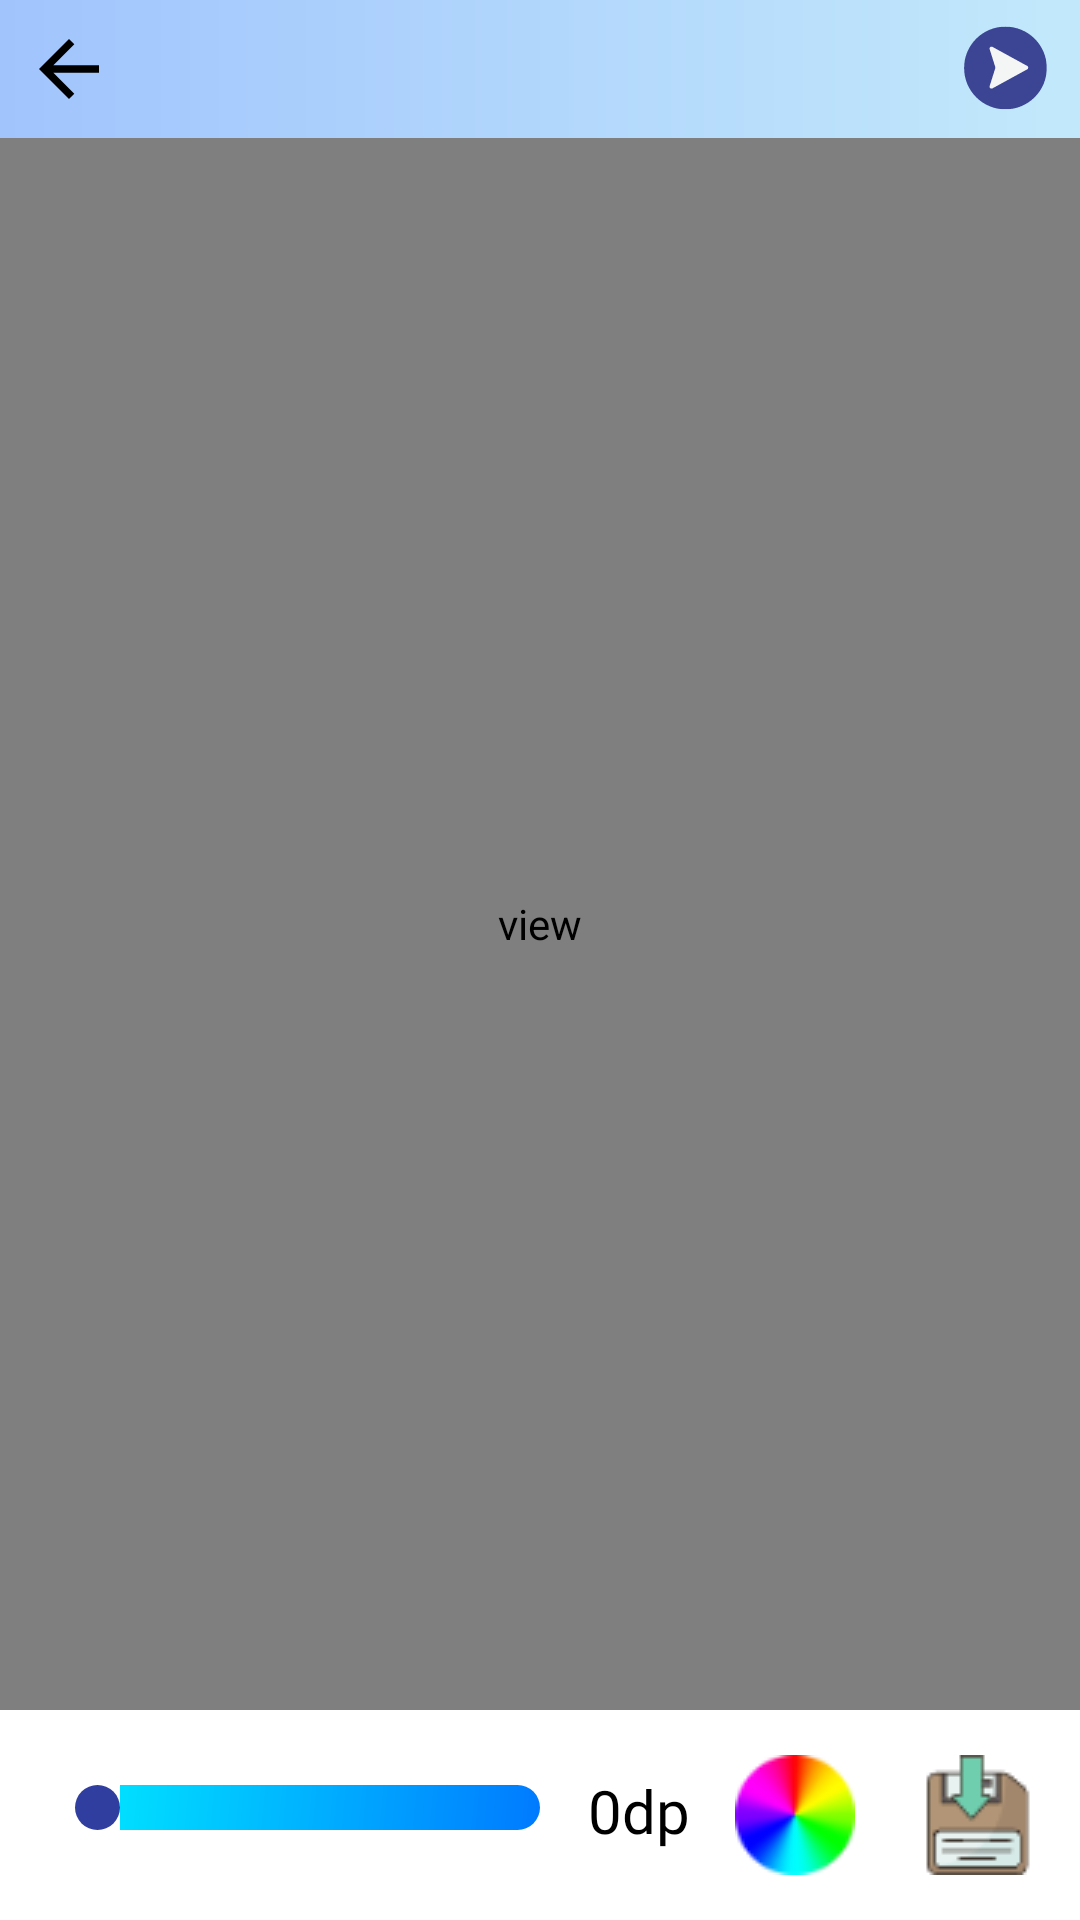

Where icons sit on this 1080x1920 app screen, as {"x1": x1, "y1": y1, "x2": x2, "y2": y2}:
back: {"x1": 39, "y1": 39, "x2": 99, "y2": 99}
palette: {"x1": 735, "y1": 1755, "x2": 855, "y2": 1875}
save: {"x1": 926, "y1": 1755, "x2": 1030, "y2": 1875}
